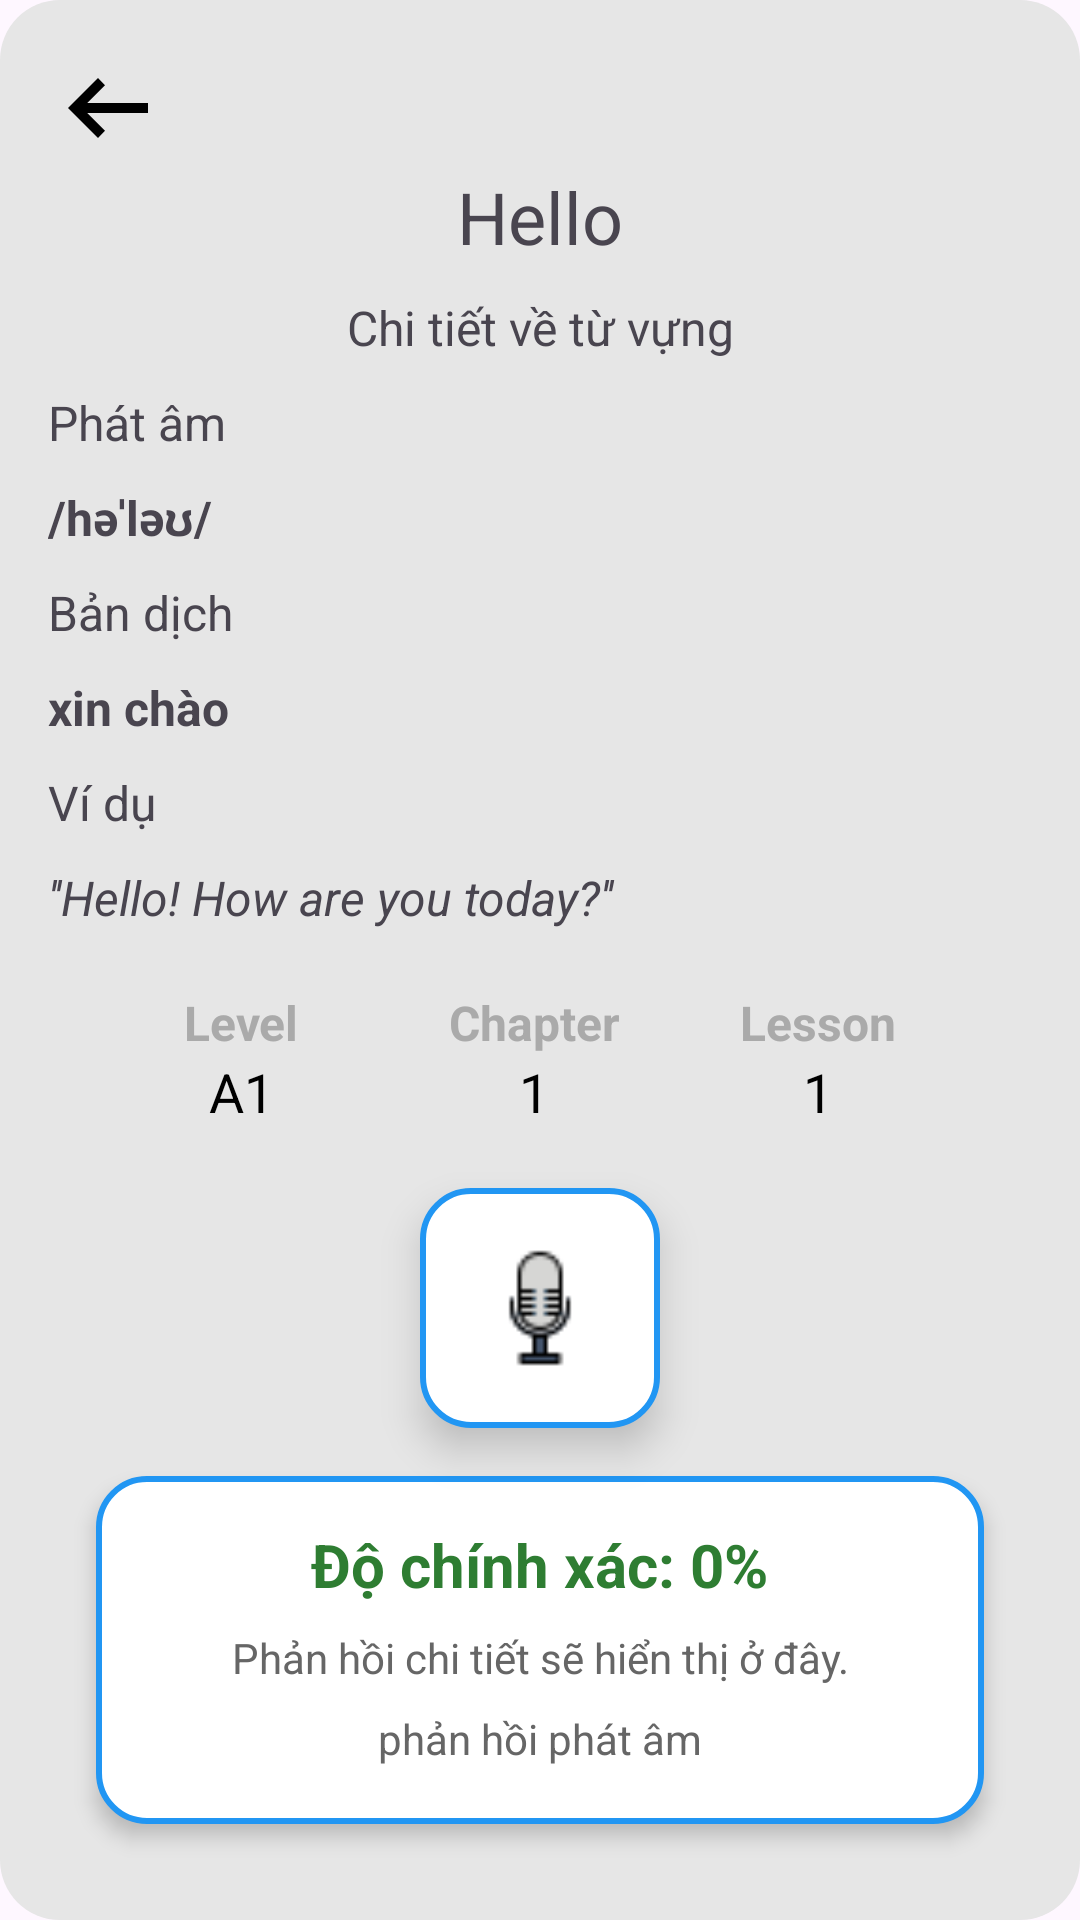

Named icons in this screenshot (1080×1920) and their bounding boxes, [x1,y1,x2,y2]:
arrow left: [68,78,148,138]
mic: [420,1188,660,1428]
